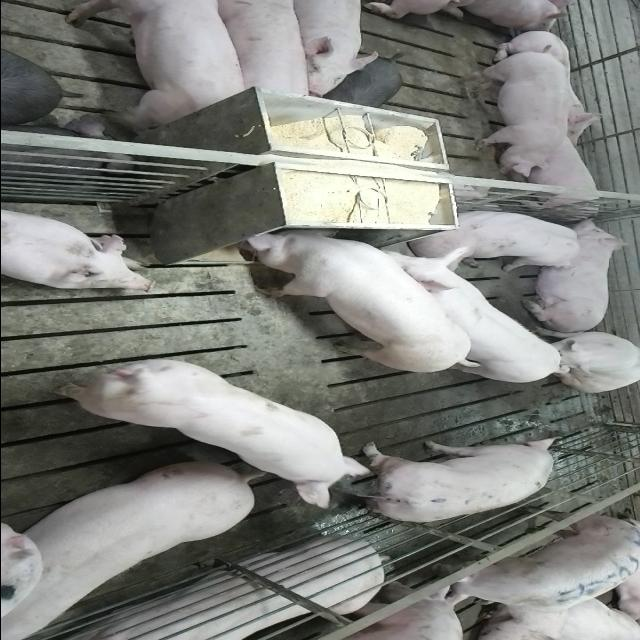Feeding: (232, 219, 470, 369)
Sitting: (412, 206, 584, 268), (532, 329, 640, 393)
Standing: (41, 352, 368, 504), (5, 458, 263, 635), (372, 254, 566, 388), (58, 1, 255, 131), (424, 516, 640, 616), (345, 435, 561, 524), (462, 52, 572, 180), (209, 2, 311, 102), (286, 0, 373, 99)
Sternal_lying: (490, 32, 612, 140), (0, 208, 156, 292), (518, 218, 630, 328), (514, 137, 604, 213)
